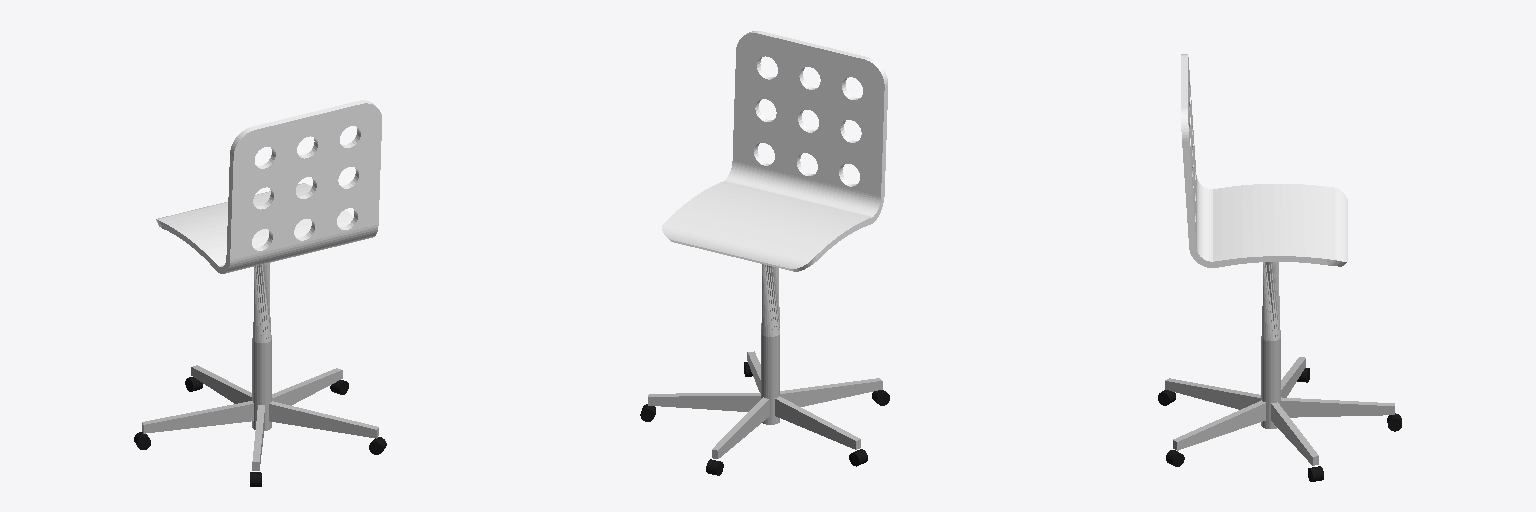
The picture shows the model from 3 angles: view 1: azimuth 30°, elevation 25°; view 2: azimuth 150°, elevation 25°; view 3: azimuth 270°, elevation 25°; orthographic projection.
Parts seen in each view (by area): view 1: Mesh1 Group2 Group1 Model, Mesh12 Group3 ske3F1 Group1 Model, Mesh3 Group4 Group3 ske3F1 Group1 Model, Mesh9 Group7 Group3 ske3F1 Group1 Model, Mesh5 Group5 Group3 ske3F1 Group1 Model, Mesh11 Group8 Group3 ske3F1 Group1 Model, Mesh7 Group6 Group3 ske3F1 Group1 Model; view 2: Mesh1 Group2 Group1 Model, Mesh12 Group3 ske3F1 Group1 Model, Mesh5 Group5 Group3 ske3F1 Group1 Model, Mesh7 Group6 Group3 ske3F1 Group1 Model, Mesh3 Group4 Group3 ske3F1 Group1 Model, Mesh11 Group8 Group3 ske3F1 Group1 Model; view 3: Mesh1 Group2 Group1 Model, Mesh12 Group3 ske3F1 Group1 Model, Mesh11 Group8 Group3 ske3F1 Group1 Model, Mesh9 Group7 Group3 ske3F1 Group1 Model, Mesh7 Group6 Group3 ske3F1 Group1 Model, Mesh5 Group5 Group3 ske3F1 Group1 Model.
Part boxes in pixels (bbox=[...]): Mesh1 Group2 Group1 Model: bbox=[156, 100, 381, 273]; Mesh12 Group3 ske3F1 Group1 Model: bbox=[252, 263, 271, 430]; Mesh3 Group4 Group3 ske3F1 Group1 Model: bbox=[142, 401, 253, 433]; Mesh9 Group7 Group3 ske3F1 Group1 Model: bbox=[269, 401, 378, 438]; Mesh5 Group5 Group3 ske3F1 Group1 Model: bbox=[272, 368, 342, 405]; Mesh11 Group8 Group3 ske3F1 Group1 Model: bbox=[191, 365, 251, 403]; Mesh7 Group6 Group3 ske3F1 Group1 Model: bbox=[252, 405, 264, 470]; Mesh1 Group2 Group1 Model: bbox=[662, 31, 887, 271]; Mesh12 Group3 ske3F1 Group1 Model: bbox=[761, 264, 779, 424]; Mesh5 Group5 Group3 ske3F1 Group1 Model: bbox=[648, 393, 760, 411]; Mesh7 Group6 Group3 ske3F1 Group1 Model: bbox=[780, 378, 882, 406]; Mesh3 Group4 Group3 ske3F1 Group1 Model: bbox=[775, 396, 860, 449]; Mesh11 Group8 Group3 ske3F1 Group1 Model: bbox=[712, 397, 769, 458]; Mesh1 Group2 Group1 Model: bbox=[1181, 54, 1347, 267]; Mesh12 Group3 ske3F1 Group1 Model: bbox=[1261, 262, 1280, 428]; Mesh11 Group8 Group3 ske3F1 Group1 Model: bbox=[1280, 397, 1394, 417]; Mesh9 Group7 Group3 ske3F1 Group1 Model: bbox=[1173, 400, 1265, 450]; Mesh7 Group6 Group3 ske3F1 Group1 Model: bbox=[1165, 378, 1260, 409]; Mesh5 Group5 Group3 ske3F1 Group1 Model: bbox=[1271, 402, 1318, 465].
Bounding box in the file's own units: 0.5504 × 0.842 × 0.5329.